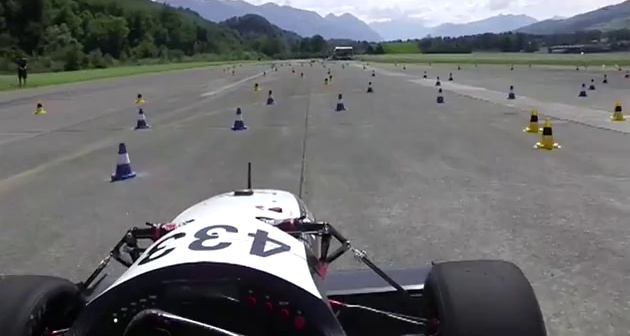Cone: (111, 140, 137, 182), (533, 117, 562, 151), (523, 107, 545, 134), (133, 106, 151, 130), (231, 107, 248, 131), (610, 99, 626, 121), (334, 93, 348, 112)
